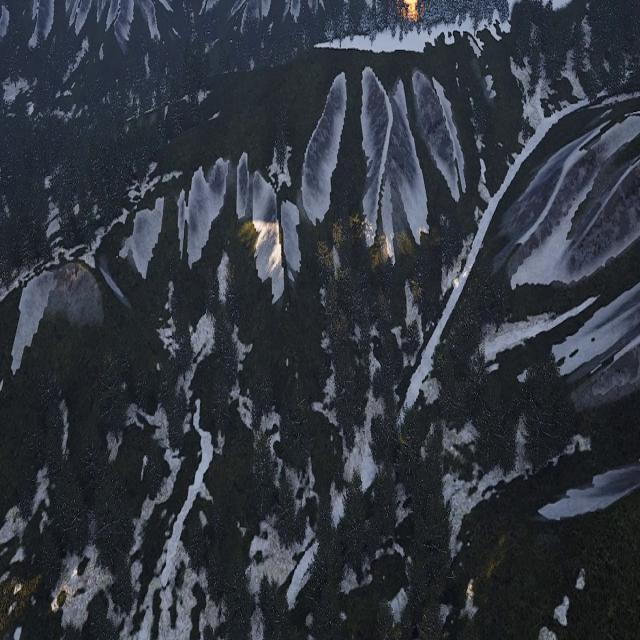fire: (400, 0, 422, 23)
